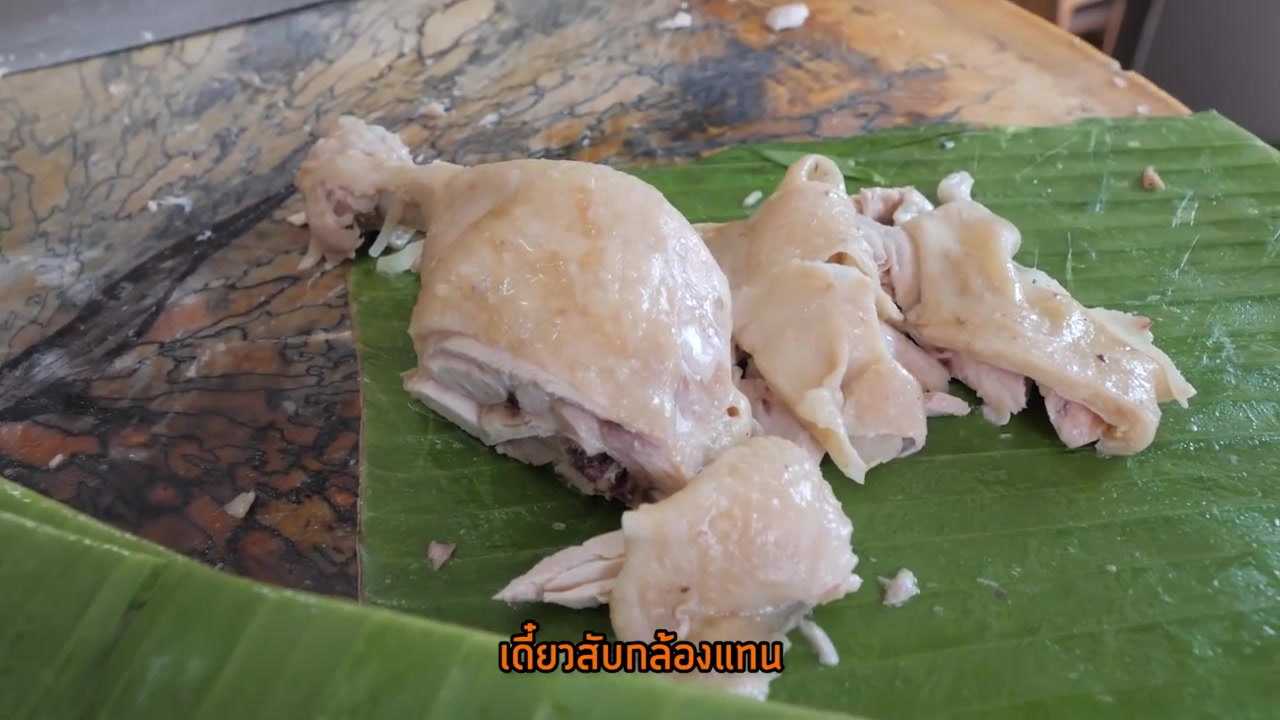text-label: (493, 619, 788, 678)
